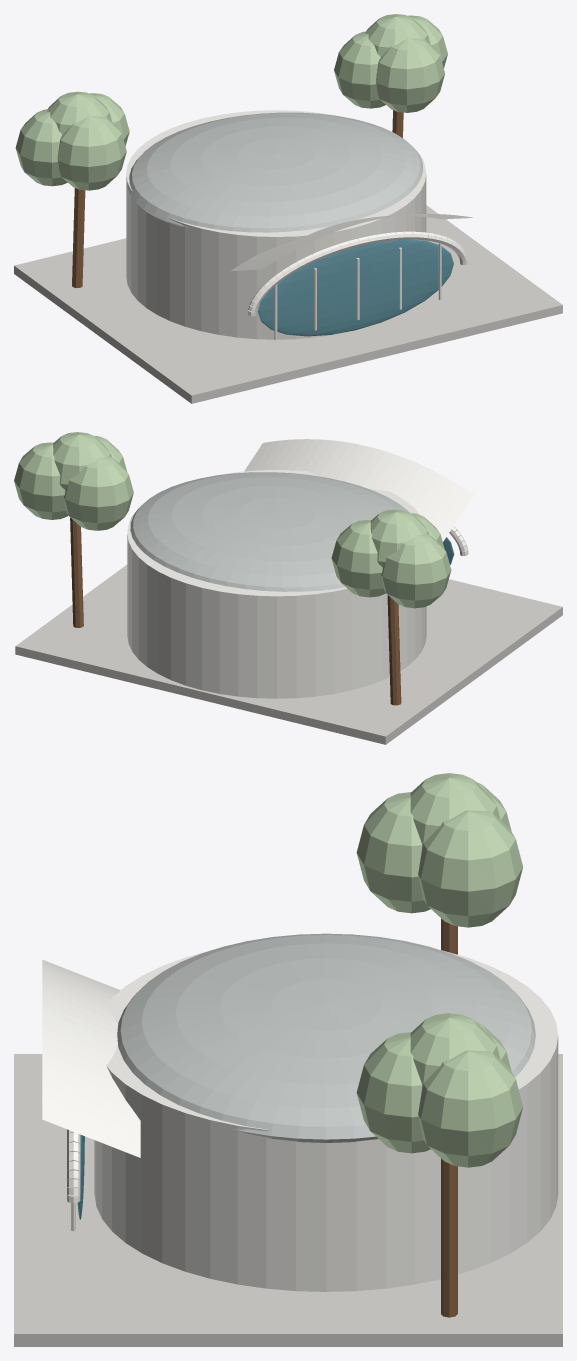
File: dot-X2.glb
3 views of the same model, one above another, from view 1: azimuth 30°, elevation 25°; view 2: azimuth 150°, elevation 25°; view 3: azimuth 270°, elevation 25° (orthographic). The views are drawn at different scales.
Parts seen in each view (by area): view 1: pave; view 2: pave; view 3: pave.
Boxes of the visible parts, <box> form: pave: <box>14,14,562,403</box>; pave: <box>14,432,562,744</box>; pave: <box>14,773,562,1346</box>.
Size of the model in its own units: 6.99 by 3.13 by 5.04.
1 material, 1 textured.
